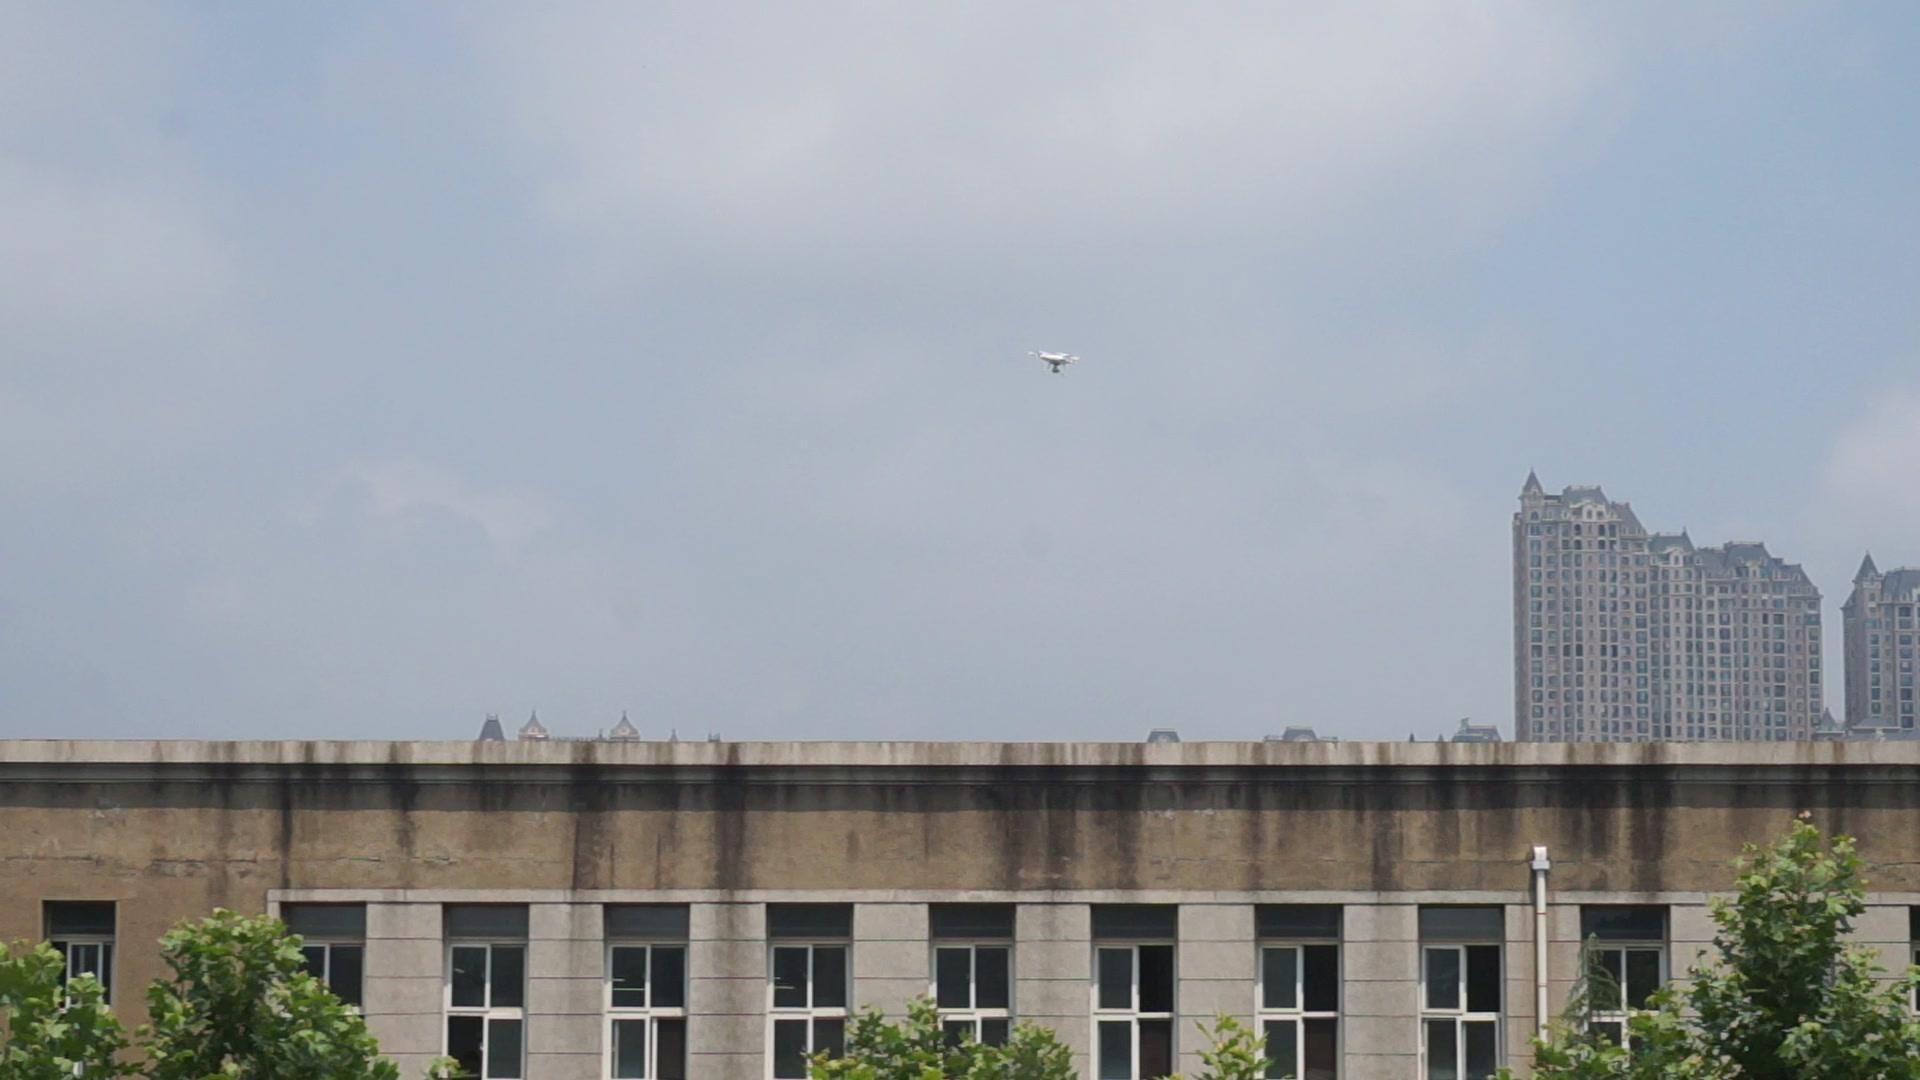UAV: (1029, 351, 1083, 377)
